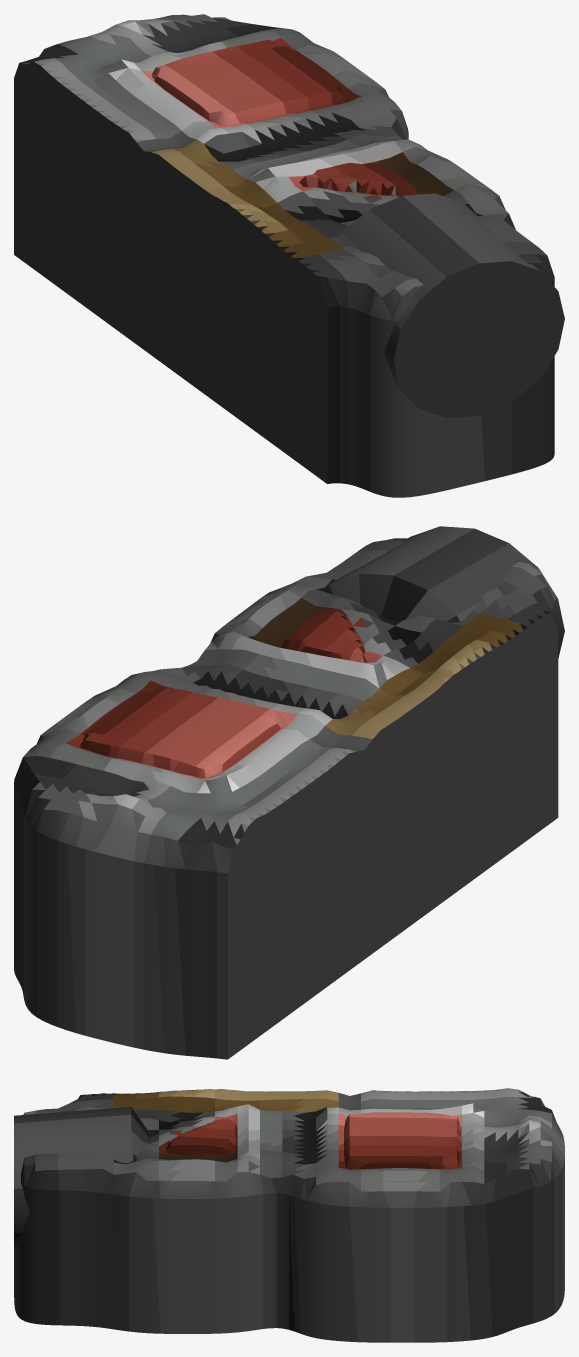
File: tusk_boss_94.glb
The picture shows the model from 3 angles, top to bottom: view 1: azimuth 30°, elevation 25°; view 2: azimuth 150°, elevation 25°; view 3: azimuth 270°, elevation 25°; orthographic projection. The views are drawn at different scales.
Parts seen in each view (by area): view 1: tusk_boss_94_plates; view 2: tusk_boss_94_plates; view 3: tusk_boss_94_plates.
Boxes of the visible parts, left/top/right/bottom form: tusk_boss_94_plates: left=14, top=14, right=564, bottom=497; tusk_boss_94_plates: left=14, top=526, right=564, bottom=1059; tusk_boss_94_plates: left=14, top=1088, right=564, bottom=1342.
Bounding box in the file's own units: 11 × 9.53 × 26.99.
